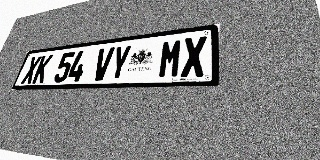4: (66, 50, 89, 82)
5: (53, 52, 75, 83)
K: (32, 54, 53, 84)
M: (157, 38, 183, 78)
V: (91, 47, 115, 81)
X: (181, 36, 207, 77), (21, 56, 42, 84)
Y: (108, 45, 132, 80)
